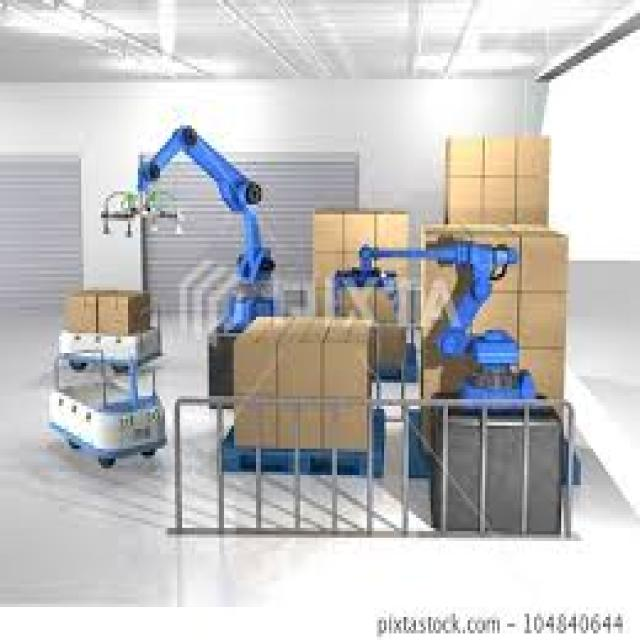Robotic-arm: (130, 108, 278, 394), (331, 223, 542, 403)
